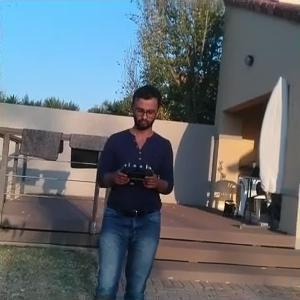follow: (89, 80, 177, 298)
